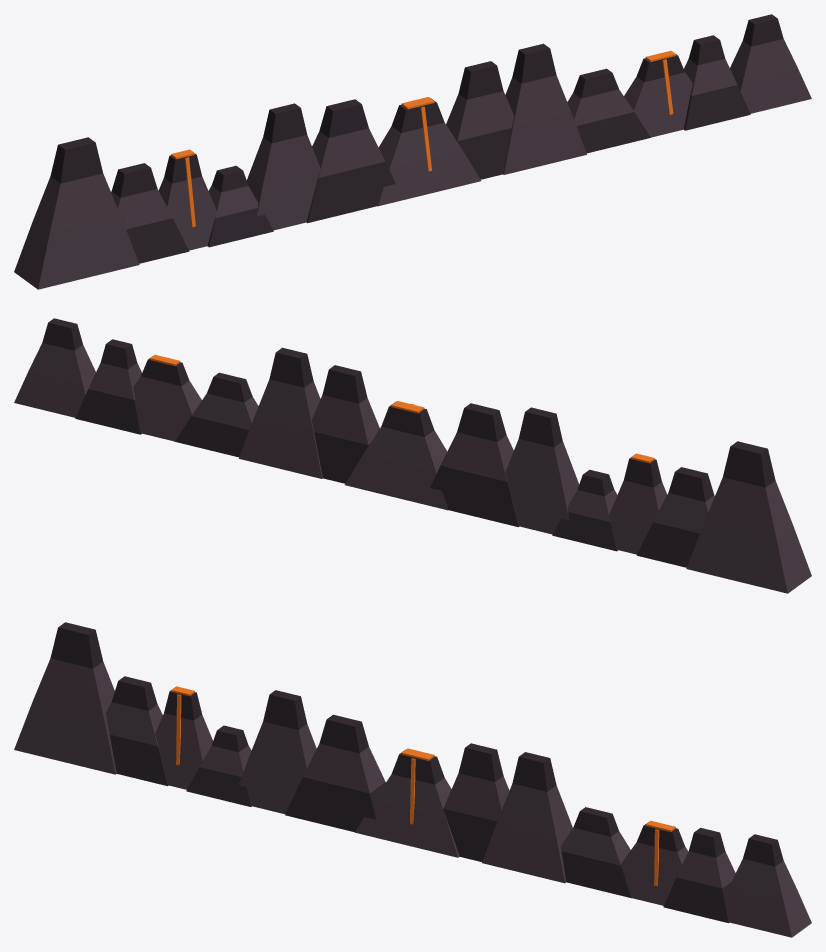
File: backdrop_lava.glb
3 views of the same model, one above another, from view 1: azimuth 30°, elevation 25°; view 2: azimuth 150°, elevation 25°; view 3: azimuth 330°, elevation 25° (orthographic).
Visible parts, largest first — view 1: backdrop_lava; view 2: backdrop_lava; view 3: backdrop_lava.
Part boxes in pixels (left/top/right/bottom): backdrop_lava: left=14, top=14, right=811, bottom=289; backdrop_lava: left=14, top=318, right=811, bottom=593; backdrop_lava: left=14, top=622, right=811, bottom=937.
Bounding box in the file's own units: 260 × 40 × 14.
Materials: 1 (1 with a texture image).
